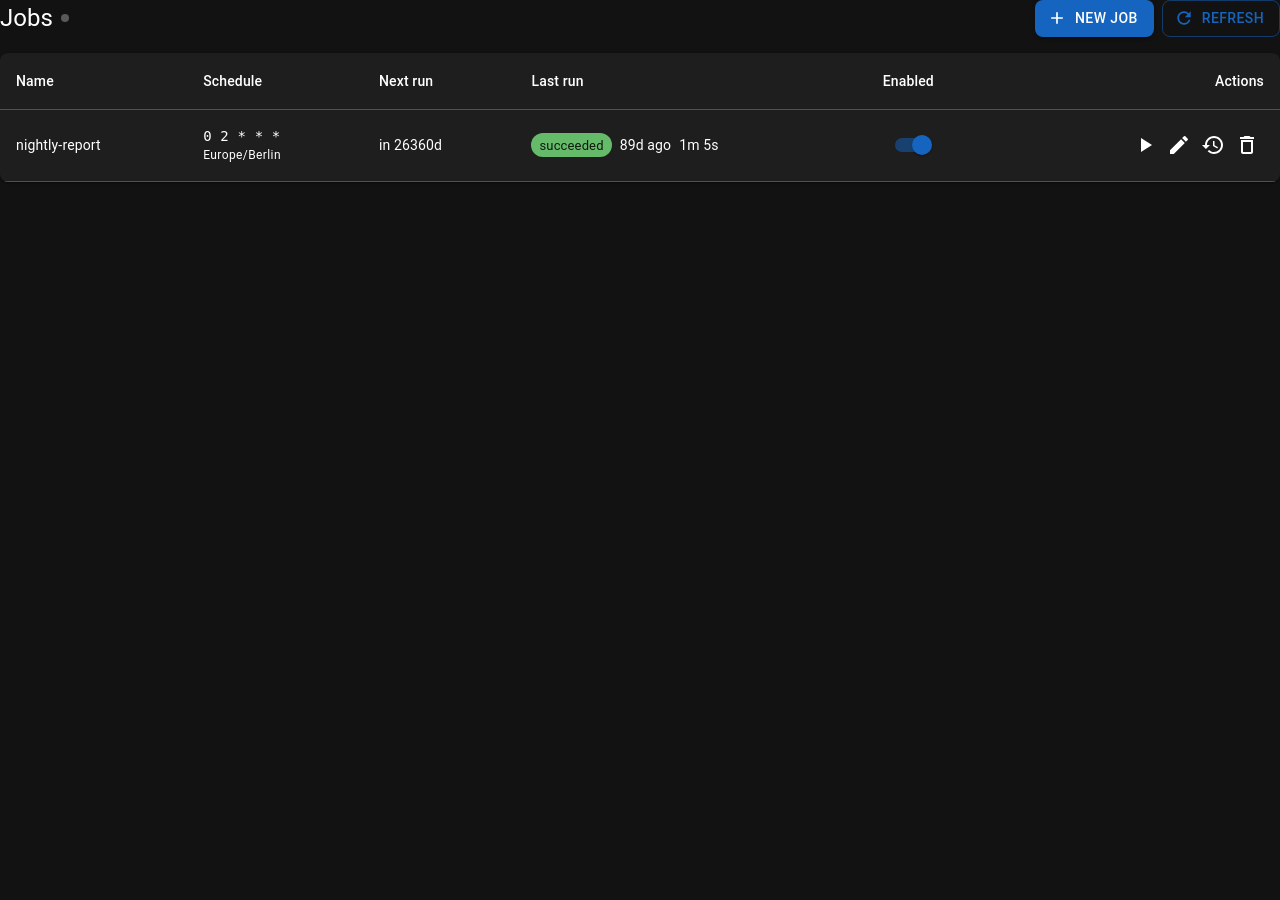
JobsPage › Delete confirms, and offers force when the API answers run_active
The width and height of the screenshot is (1280, 900).
What coordinates should you click on to do the following:
click the button named "delete nightly-report"
I would click on:
 (1247, 146)
Its box is [1230,128,1264,162].
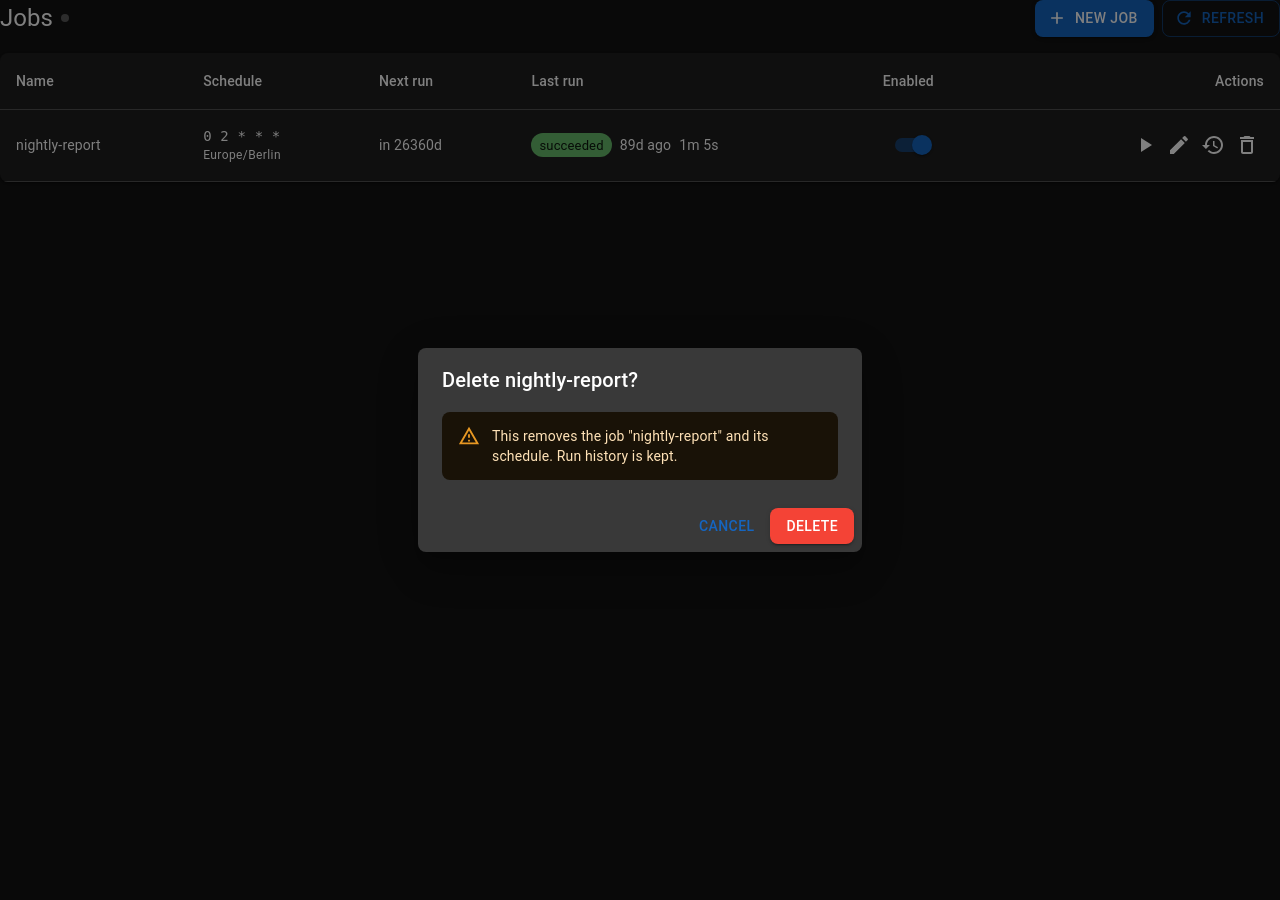
What coordinates should you click on to do the following:
click the button "Delete"
I would click on:
 (812, 526)
Its box is [770,508,854,544].
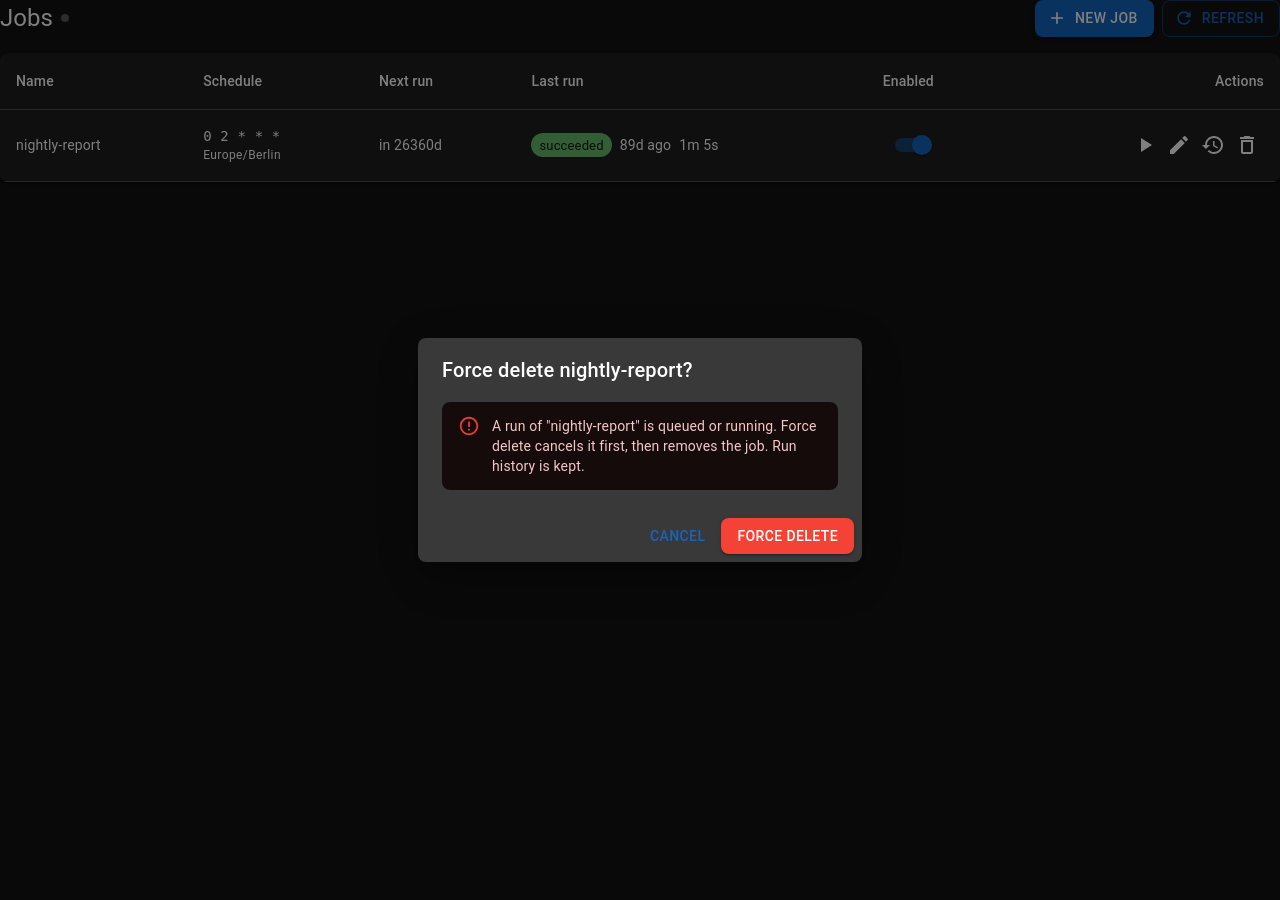
Check: the heading "Force delete nightly-report?" is shown, box [442,358,693,382]
What coordinates should you click on to do the following:
click the button "Force delete"
I would click on:
 (788, 536)
Its box is [721,518,854,554].
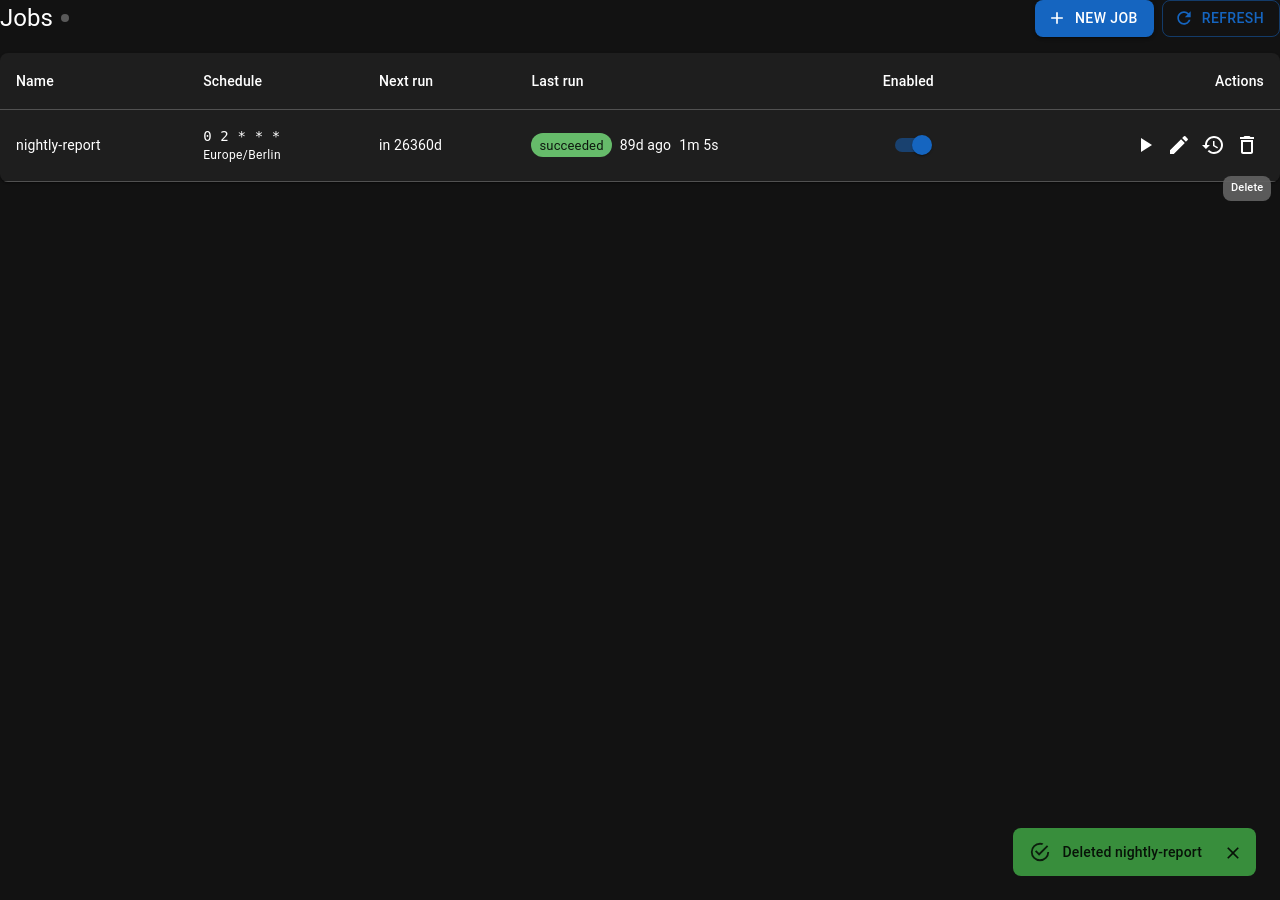
Check: the text "Deleted nightly-report" is shown, box [1062,844,1202,860]
